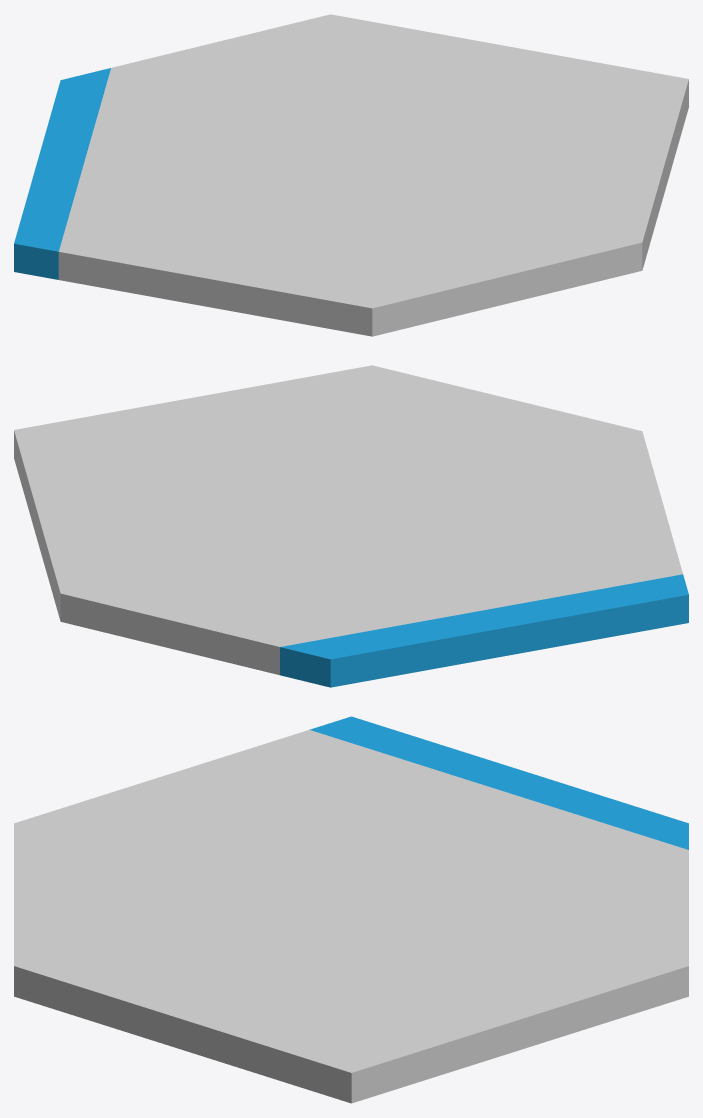
The picture shows the model from 3 angles, top to bottom: view 1: azimuth 30°, elevation 25°; view 2: azimuth 150°, elevation 25°; view 3: azimuth 270°, elevation 25°; orthographic projection. The views are drawn at different scales.
Parts seen in each view (by area): view 1: Hexagon, NW; view 2: Hexagon, NW; view 3: Hexagon, NW.
Boxes of the visible parts, x1,y1,x2,y2 form: Hexagon: (58, 14, 688, 336); NW: (14, 68, 110, 279); Hexagon: (14, 365, 682, 675); NW: (280, 574, 688, 687); Hexagon: (14, 730, 688, 1103); NW: (309, 716, 688, 849).
Bounding box in the file's own units: 5 × 4 × 0.2.
